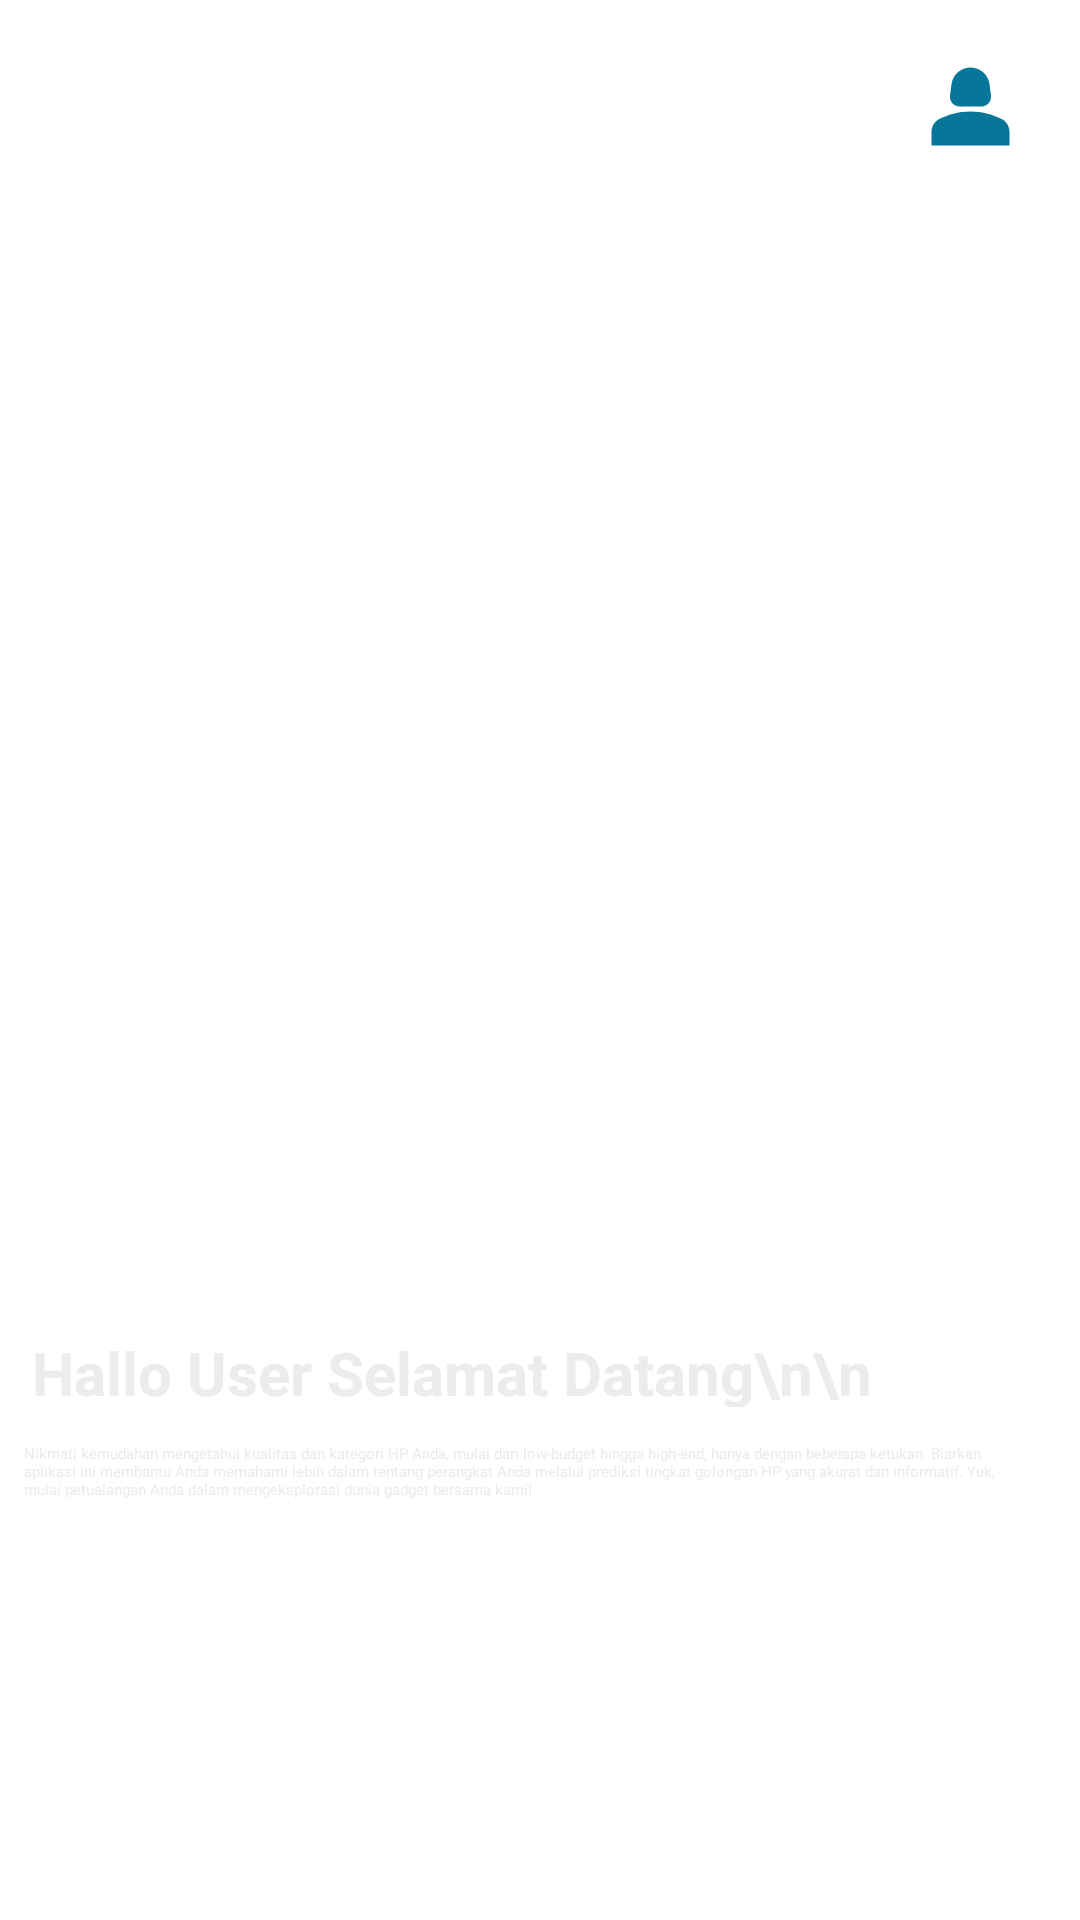

Where to tap for icons on this 1080w x 1920h app screen, as [x,y]:
person: [970,106]
